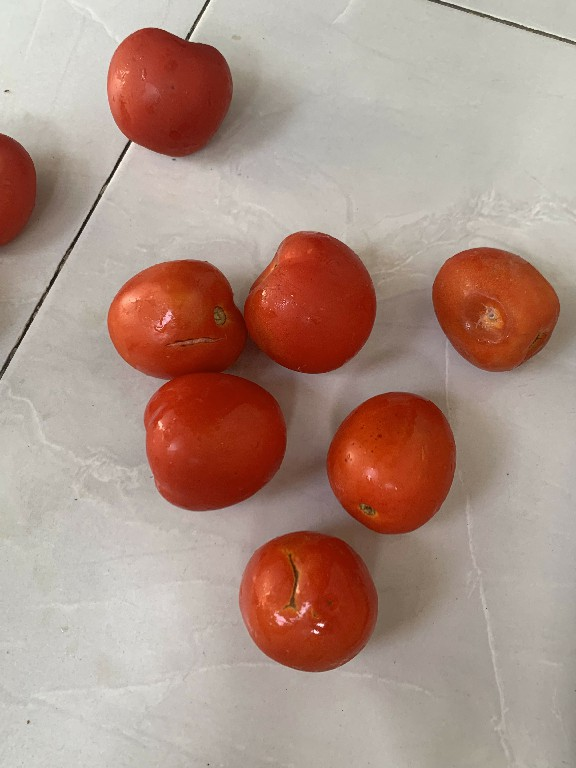NG: (236, 532, 381, 678), (424, 235, 564, 377), (103, 252, 243, 378)
OK: (135, 368, 295, 520), (97, 13, 252, 168), (326, 374, 462, 540), (242, 218, 378, 378)
